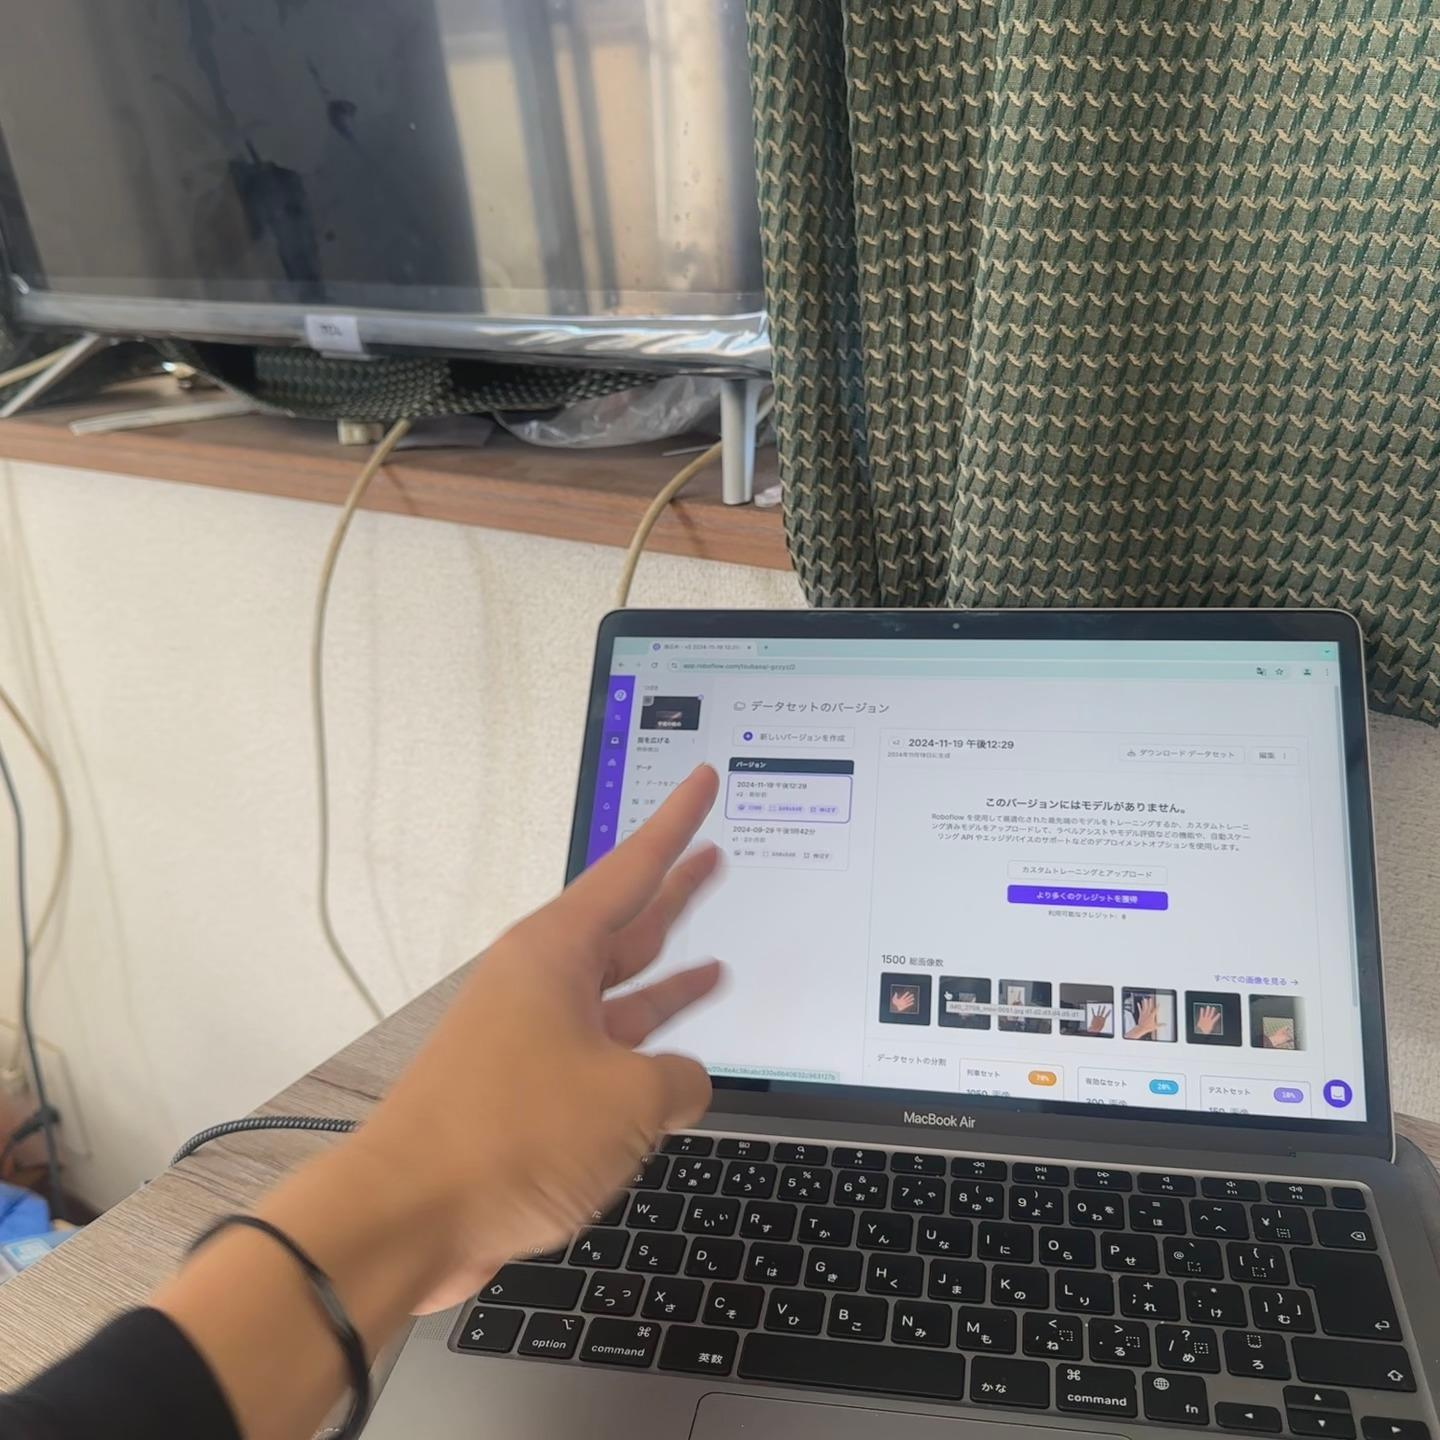without_gloves: (187, 534, 905, 1360)
